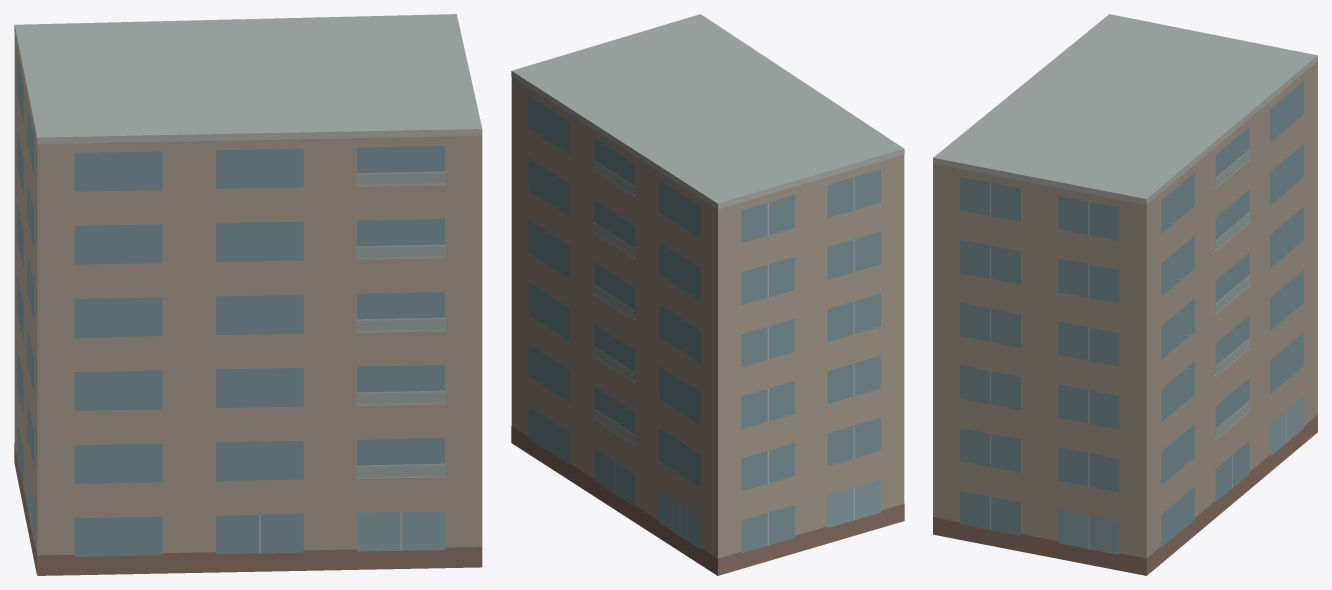
Rendered from survey-upis-32929289.glb.
3 views of the same model, side by side, from view 1: azimuth 30°, elevation 25°; view 2: azimuth 150°, elevation 25°; view 3: azimuth 270°, elevation 25° (orthographic). The views are drawn at different scales.
Visible parts, largest first — view 1: survey-upis-32929289.tmp; view 2: survey-upis-32929289.tmp; view 3: survey-upis-32929289.tmp.
Part boxes in pixels (<box>): survey-upis-32929289.tmp: <box>14,14,482,575</box>; survey-upis-32929289.tmp: <box>511,14,904,575</box>; survey-upis-32929289.tmp: <box>933,14,1317,575</box>.
Size of the model in its own units: 16.75 by 15.9 by 14.72.
